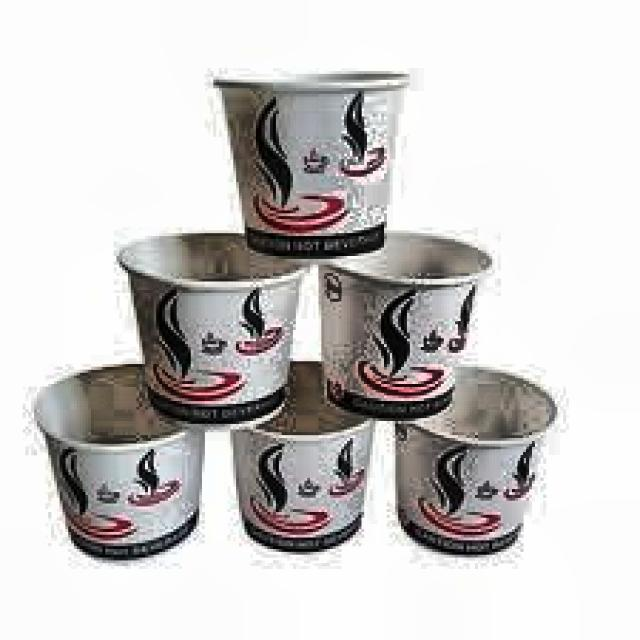Cup: (216, 68, 420, 259), (111, 228, 302, 429), (43, 352, 215, 562), (386, 362, 566, 552), (315, 227, 489, 412), (229, 352, 376, 547)
